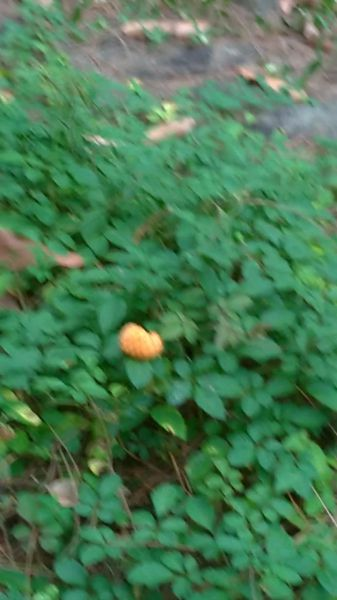eggs: (117, 324, 167, 365)
